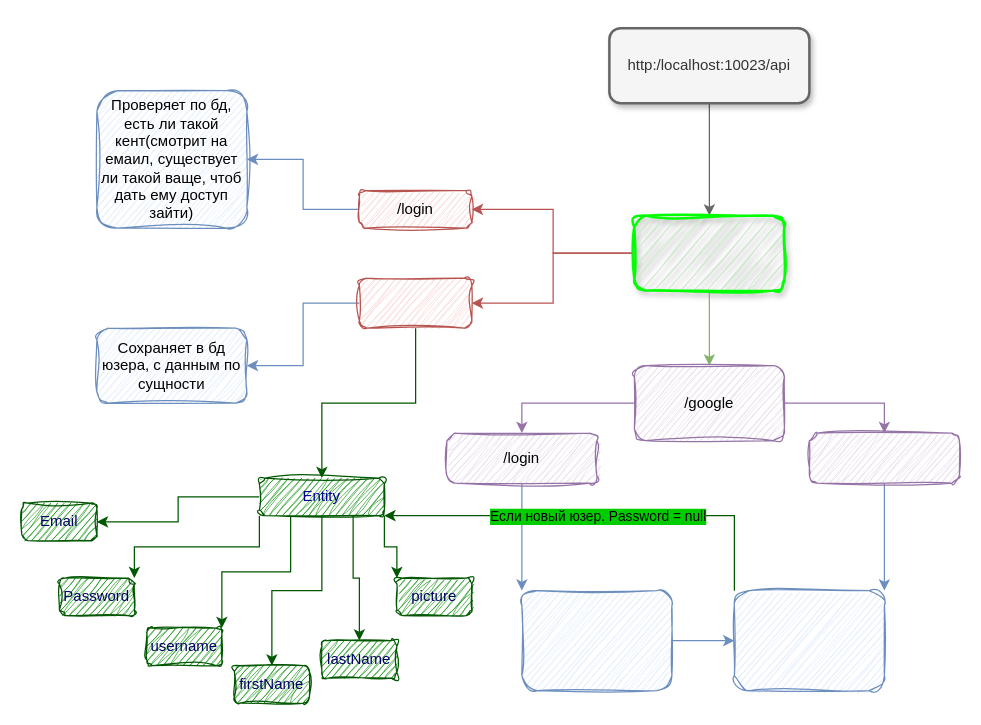
Image size: 981x725. Some labels were removed from this diagram. The centre of each missing label's shape, as x and y in pixels:
"/auth" goes at (710,254).
"/redirect" goes at (883,457).
"/register" goes at (415,302).
"Отдает токен, с user данными и дальше закидывает на бд юзера, нового, если есть" goes at (808,640).
"Перекидывает на авторизацию через почту, выбираешь акк" goes at (596,640).
